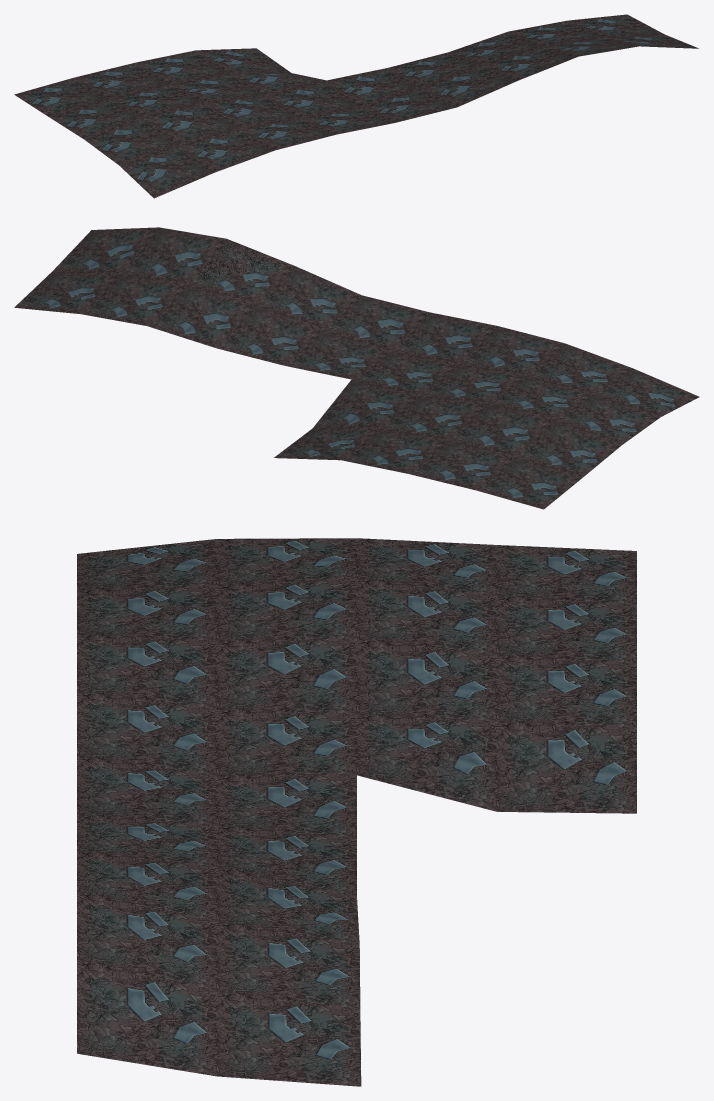
The model's file is track_military_env_terrain_01.fbx.
The picture shows the model from 3 angles, top to bottom: view 1: azimuth 30°, elevation 25°; view 2: azimuth 150°, elevation 25°; view 3: azimuth 270°, elevation 25°; orthographic projection. The views are drawn at different scales.
Parts seen in each view (by area): view 1: track_military_env_terrain_01; view 2: track_military_env_terrain_01; view 3: track_military_env_terrain_01.
Part boxes in pixels (x1,y1,x2,y2): track_military_env_terrain_01: (14, 14, 698, 198); track_military_env_terrain_01: (14, 227, 699, 509); track_military_env_terrain_01: (77, 538, 636, 1086).
Size of the model in its own units: 514 by 44.81 by 228.
